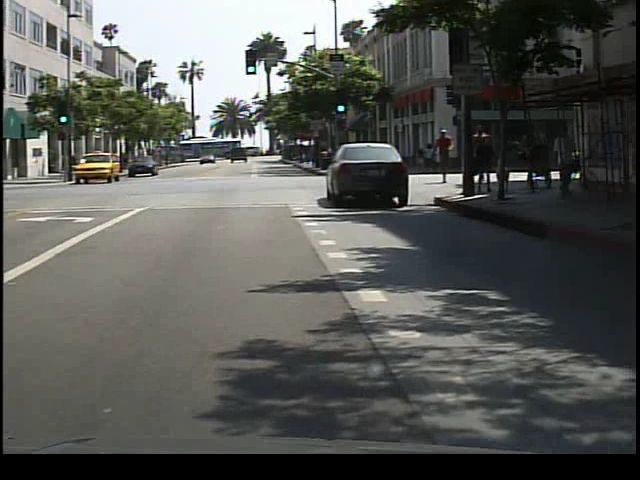person: (435, 127, 460, 189)
